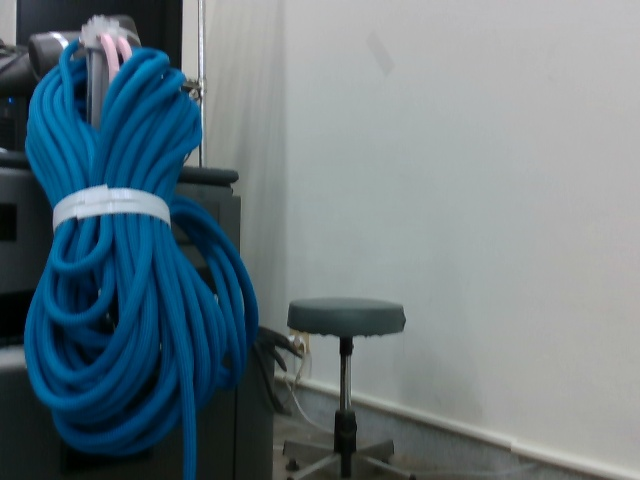rope: (22, 29, 259, 459)
